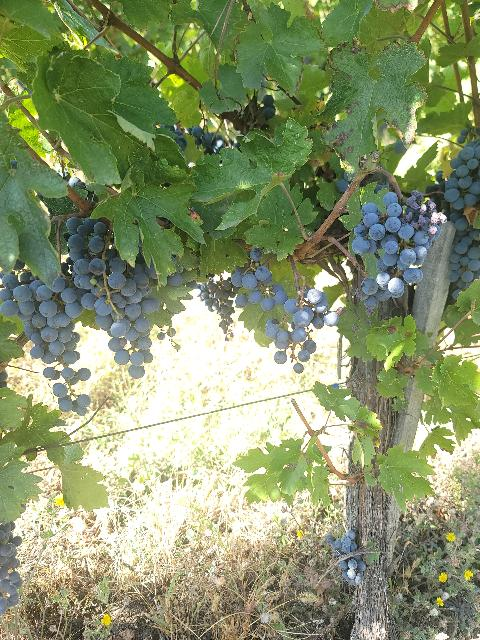grapes: (69, 218, 159, 378), (0, 271, 90, 414), (351, 191, 446, 298), (265, 289, 339, 372), (445, 135, 480, 299), (356, 278, 390, 309)
